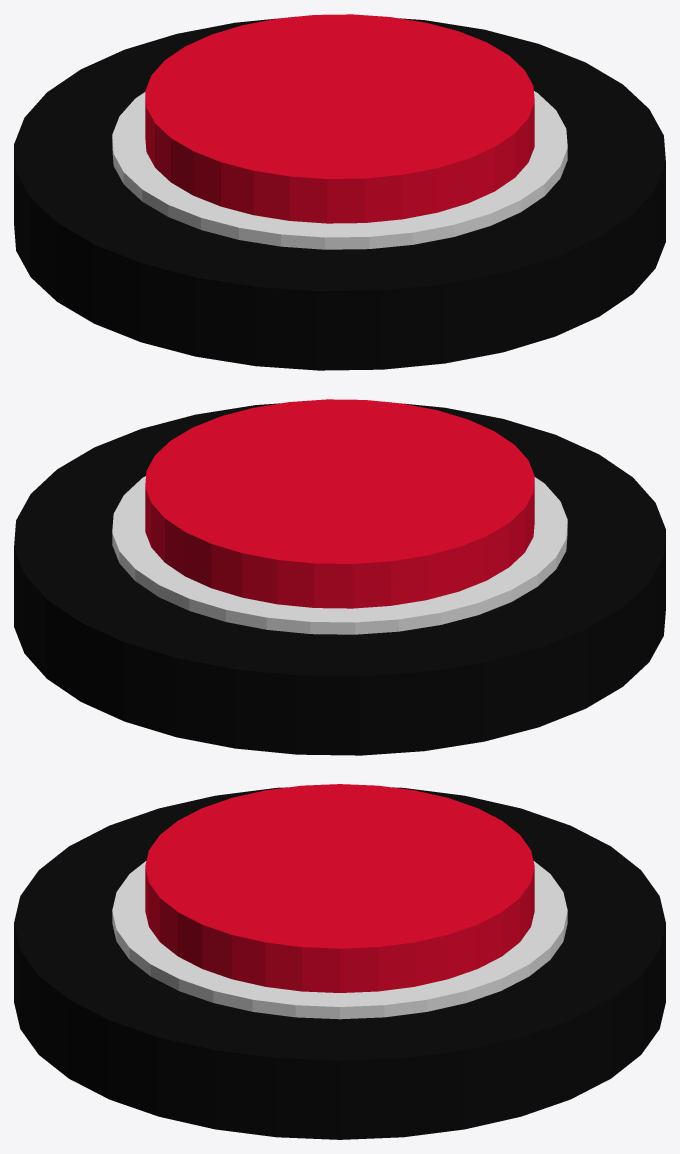
Rendered from ボタン.fbx.
The picture shows the model from 3 angles, top to bottom: view 1: azimuth 30°, elevation 25°; view 2: azimuth 150°, elevation 25°; view 3: azimuth 270°, elevation 25°; orthographic projection.
Visible parts, largest first — view 1: 円柱, 円柱.001; view 2: 円柱, 円柱.001; view 3: 円柱, 円柱.001.
Boxes of the visible parts, <box> form: 円柱: <box>14,17,665,370</box>; 円柱.001: <box>145,14,534,223</box>; 円柱: <box>14,402,665,755</box>; 円柱.001: <box>145,399,534,608</box>; 円柱: <box>14,787,665,1139</box>; 円柱.001: <box>145,784,534,992</box>.
Size of the model in its own units: 200 by 45.96 by 200.
